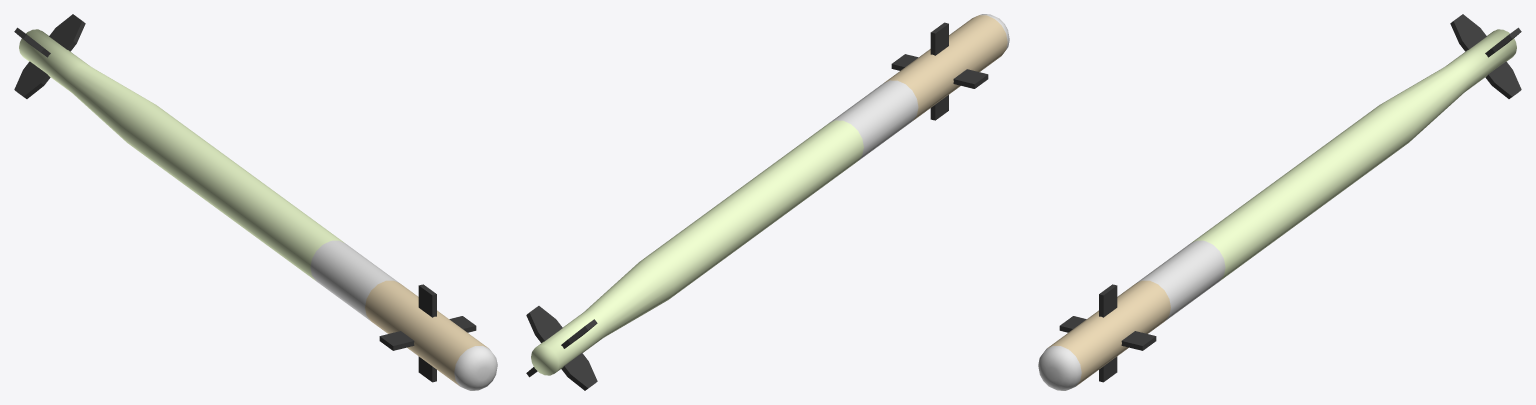
File: Raketa.fbx
3 renders of one model, left to right at view 1: azimuth 30°, elevation 25°; view 2: azimuth 150°, elevation 25°; view 3: azimuth 330°, elevation 25°, orthographic.
Visible parts, largest first — view 1: Cylinder.052, Cube.038, Cube.036, Cube.037; view 2: Cylinder.052, Cube.038, Cube.036, Cube.037; view 3: Cylinder.052, Cube.039, Cube.036, Cube.037.
Boxes of the visible parts, box(x1,y1,x2,y2) form: Cylinder.052: box(19, 29, 497, 390); Cube.038: box(14, 14, 85, 98); Cube.036: box(418, 284, 436, 382); Cube.037: box(379, 316, 476, 350); Cylinder.052: box(531, 14, 1009, 375); Cube.038: box(526, 306, 597, 390); Cube.036: box(930, 22, 948, 120); Cube.037: box(891, 54, 988, 88); Cylinder.052: box(1038, 29, 1516, 390); Cube.039: box(1450, 14, 1521, 98); Cube.036: box(1099, 284, 1117, 382); Cube.037: box(1059, 316, 1156, 350).
Size of the model in its own units: 4.01 by 4.01 by 37.56.
